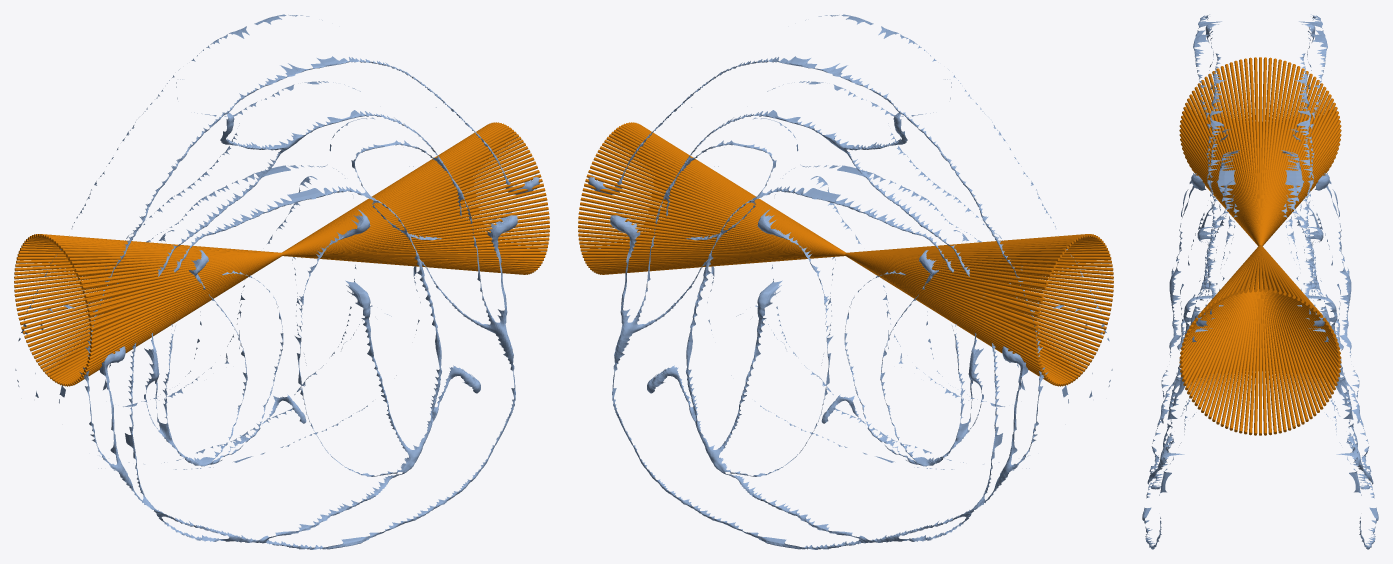
Rendered from A60025766_6150-37-520-1797_DigitalTwin.glb.
3 renders of one model, left to right at view 1: azimuth 30°, elevation 25°; view 2: azimuth 150°, elevation 25°; view 3: azimuth 270°, elevation 25°, orthographic. The views are drawn at different scales.
Parts seen in each view (by area): view 1: world; view 2: world; view 3: world.
Boxes of the visible parts, x1,y1,x2,y2 form: world: (14, 14, 549, 549); world: (578, 14, 1113, 549); world: (1142, 14, 1378, 549).
Bounding box in the file's own units: 667 × 643 × 287.
